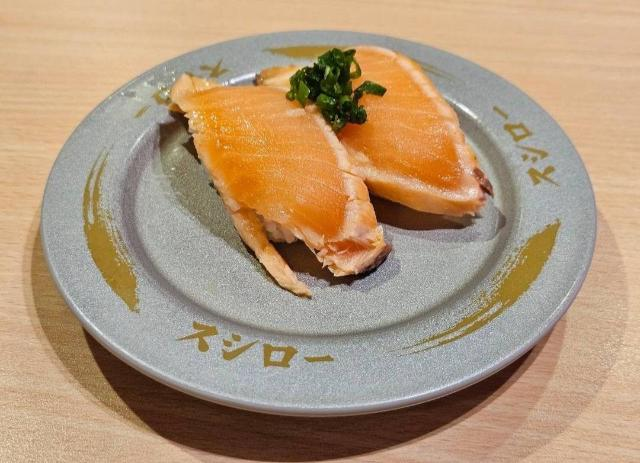janwhite: (28, 55, 599, 373)
